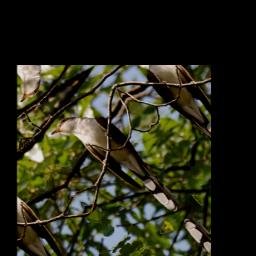Cuckoo: (47, 94, 189, 238)
